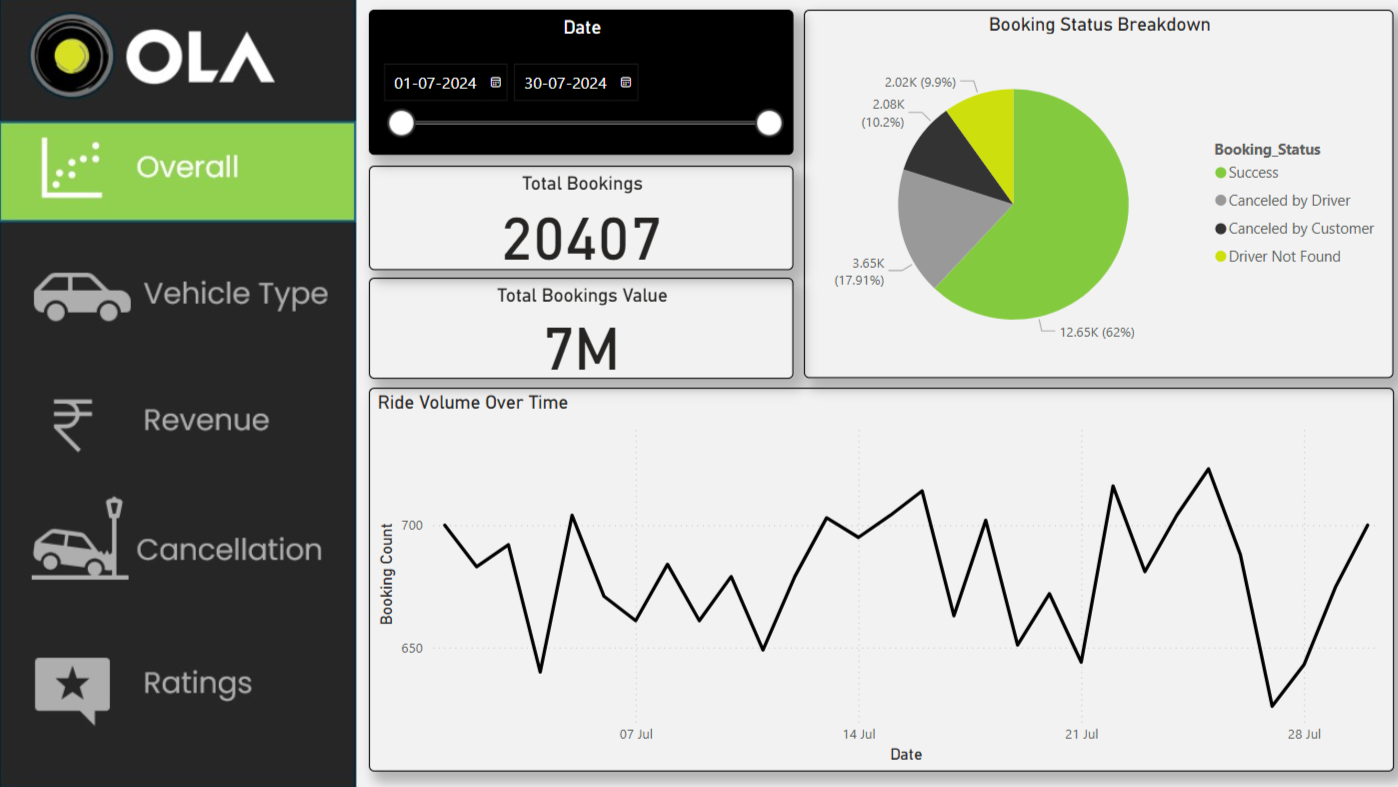

The dashboard page shown, as its layout file describes it:
{"tool":"powerbi","page":{"name":"Overall","canvas":[1280,720],"ordinal":0},"visuals":[{"type":"actionButton","box":[0,335.1,324.4,96],"z":0},{"type":"actionButton","box":[0,221.3,324.4,96],"z":1000},{"type":"actionButton","box":[0,447.1,324.4,96],"z":2000},{"type":"actionButton","box":[0,578.7,324.4,96],"z":3000},{"type":"actionButton","box":[0,104.9,324.4,96],"z":4000},{"type":"lineChart","title":"Ride Volume Over Time","fields":{"Y":["CountNonNull(July.Booking_ID)"],"Category":["July.Date"]},"box":[335,354,932,349],"z":5000},{"type":"pieChart","title":" Booking Status Breakdown","fields":{"Y":["CountNonNull(July.Booking_Status)"],"Category":["July.Booking_Status"]},"box":[731,10,536,335],"z":6000},{"type":"slicer","title":"Date","fields":{"Values":["July.Date"]},"box":[335,10,386,132],"z":7000},{"type":"card","title":"Total Bookings","fields":{"Values":["Count(July.Booking_ID)"]},"box":[335,152,386,95],"z":8000},{"type":"card","title":"Total Bookings Value","fields":{"Values":["Sum(July.Booking_Value)"]},"box":[335,254,386,92],"z":9000}]}

Visuals, with their boxes in screenshot pixels (x1, y1, x2, y2), scaled from the page's 1280x720 canvas onto the 1398x787 screenshot:
actionButton: bbox=[0, 366, 354, 471]
actionButton: bbox=[0, 242, 354, 347]
actionButton: bbox=[0, 489, 354, 594]
actionButton: bbox=[0, 633, 354, 737]
actionButton: bbox=[0, 115, 354, 220]
"Ride Volume Over Time" lineChart: bbox=[366, 387, 1384, 768]
" Booking Status Breakdown" pieChart: bbox=[798, 11, 1384, 377]
"Date" slicer: bbox=[366, 11, 787, 155]
"Total Bookings" card: bbox=[366, 166, 787, 270]
"Total Bookings Value" card: bbox=[366, 278, 787, 378]
